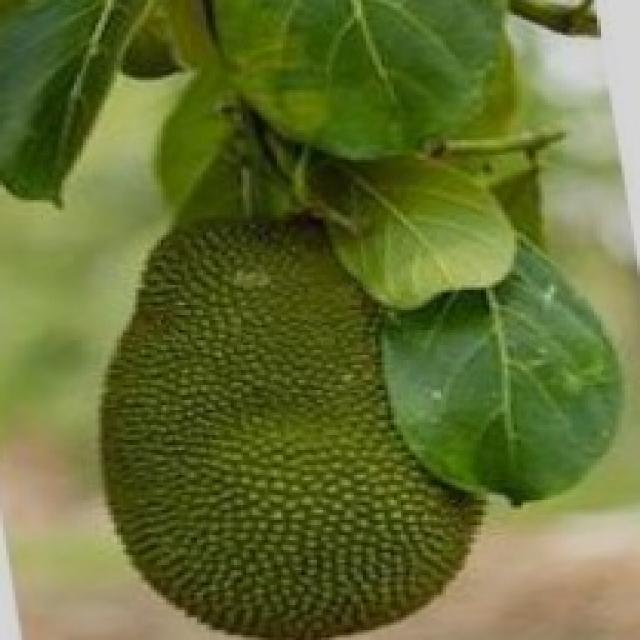Fruit: (61, 195, 492, 635)
